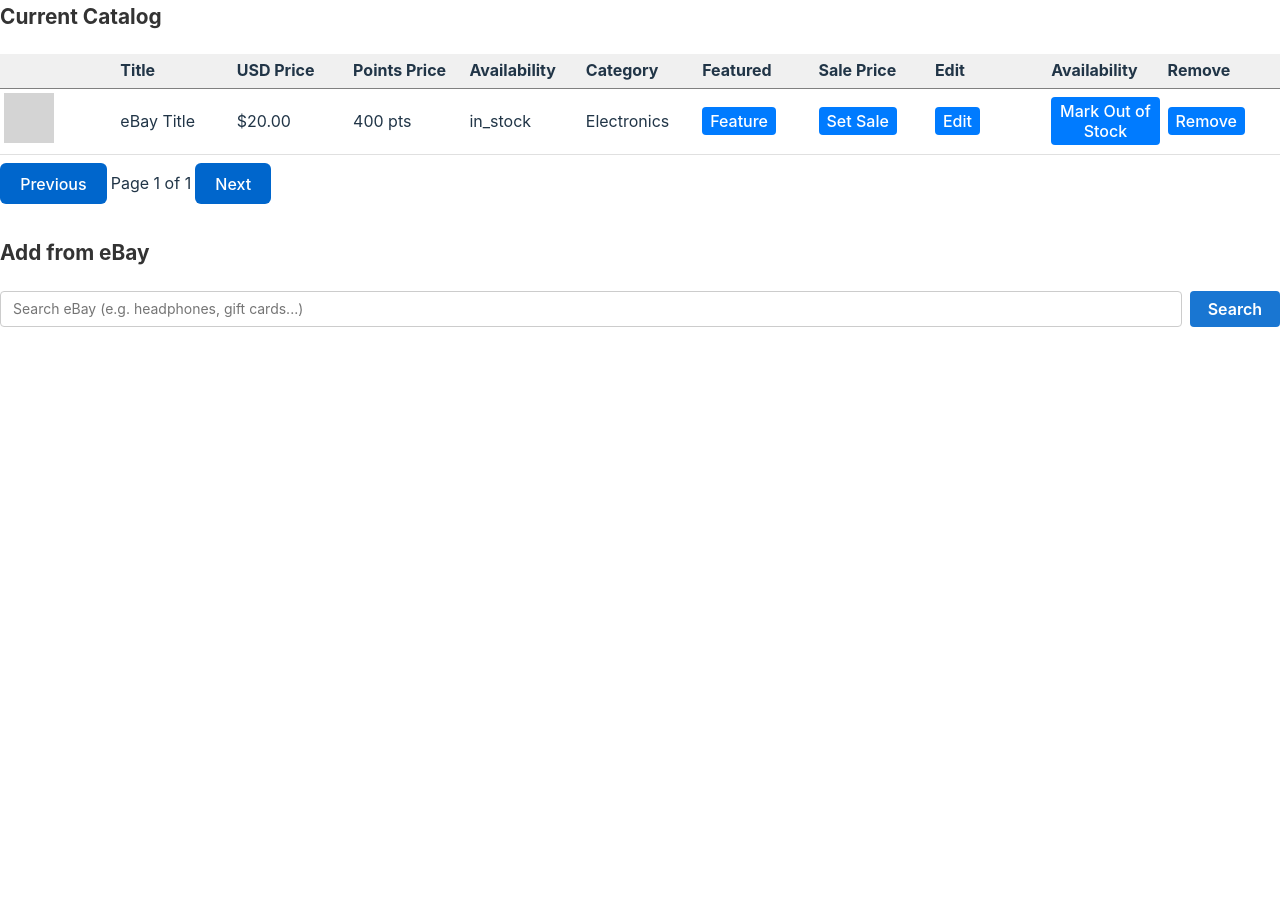
Scenario: OrganizationCatalogTab — Edit Item Modal › pre-fills custom_title input with existing value
What coordinates should you click on to do the following:
click the button "Edit"
I would click on:
 (957, 122)
Its box is [935,108,980,136].
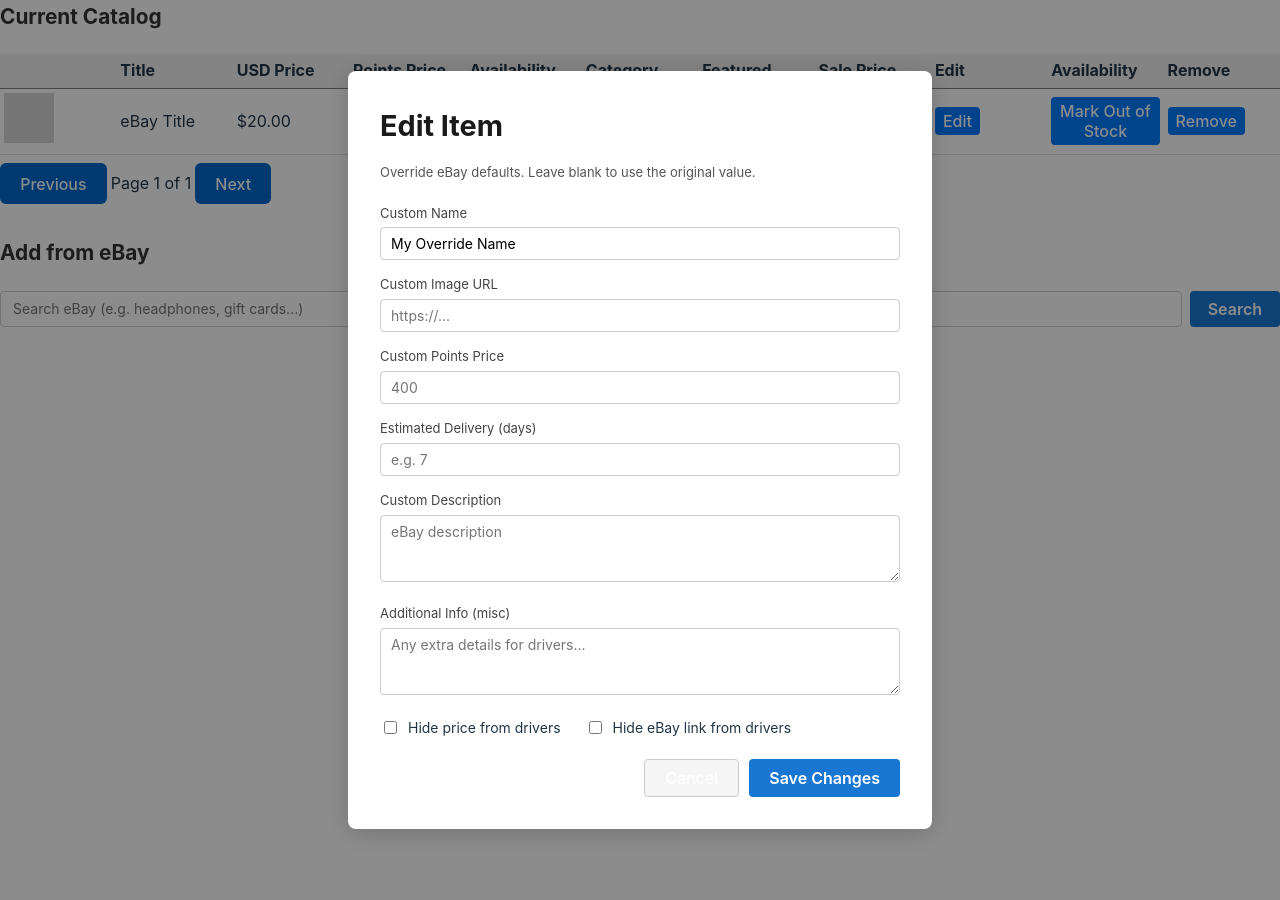
expect the field with placeholder "eBay Title" holds "My Override Name": met, box [380,227,900,260]
